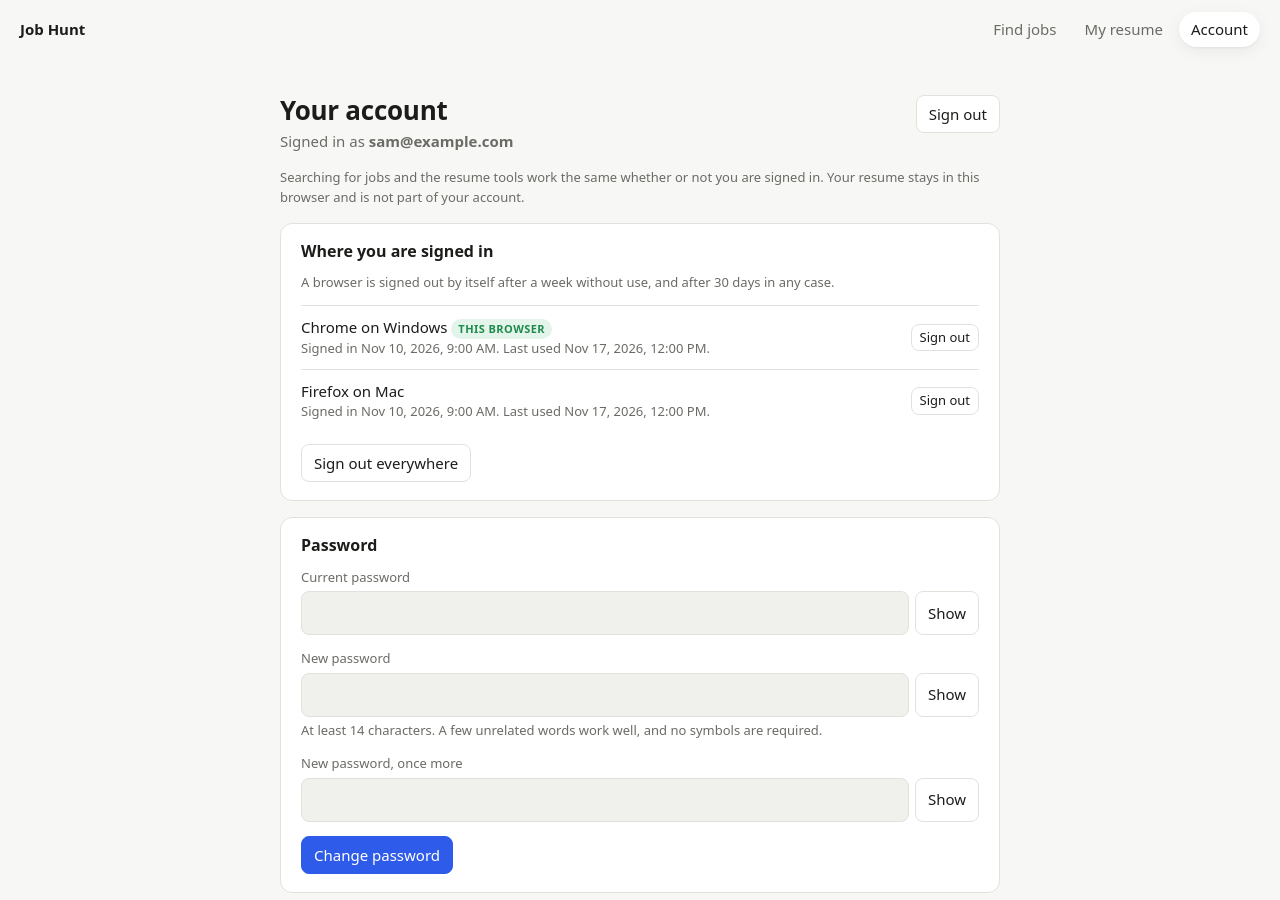
Test case: where you are signed in › signs this browser out when its own row is used
Expected: the text "Signed in as sam@example.com" is shown, [280, 130, 513, 152]
Click the button "Sign out" in the row of "Chrome on Windows": point(945, 337) [910, 324, 979, 351]
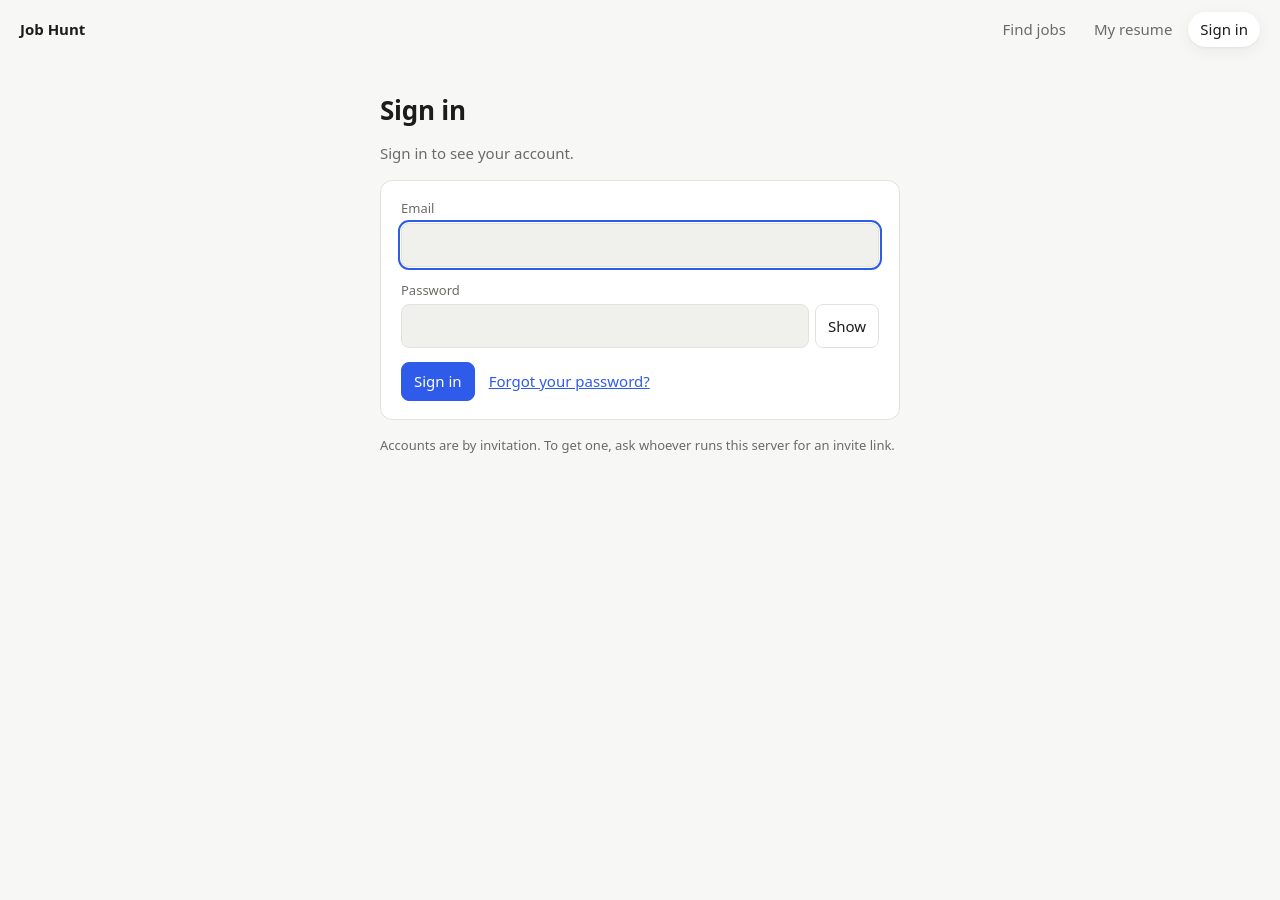
Now the text "Sign in to see your account." is shown, box [380, 143, 574, 163]
